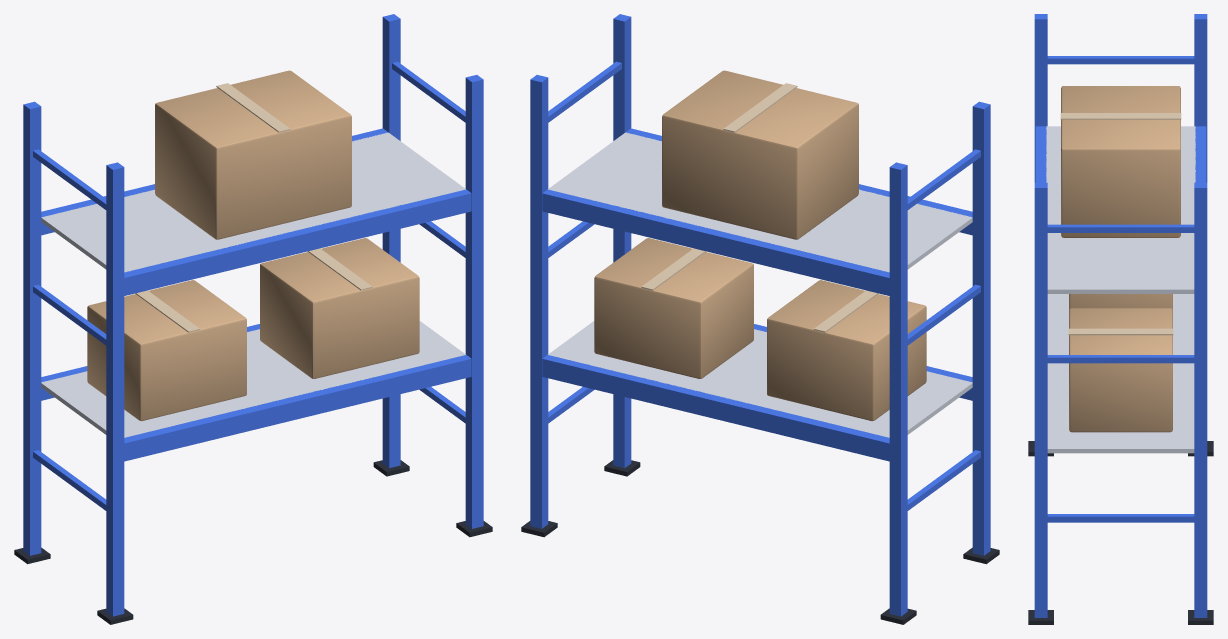
Rendered from rack.glb.
The picture shows the model from 3 angles, left to right: view 1: azimuth 30°, elevation 25°; view 2: azimuth 150°, elevation 25°; view 3: azimuth 270°, elevation 25°; orthographic projection. The views are drawn at different scales.
Visible parts, largest first — view 1: Box_U1, Box_L2, Box_L1, Rack_Deck_2, Rack_Deck_1, Rack_Col_-1.25_-0.5, Rack_BeamR_2, Rack_BeamR_1, Rack_Col_1.25_-0.5, Rack_Col_-1.25_0.5, Rack_Col_1.25_0.5, Rack_SideBrace_-1.25_1.8 (+7 smaller); view 2: Box_U1, Box_L2, Box_L1, Rack_Deck_2, Rack_Deck_1, Rack_Col_-1.25_0.5, Rack_BeamF_2, Rack_BeamF_1, Rack_Col_1.25_0.5, Rack_Col_-1.25_-0.5, Rack_Col_1.25_-0.5, Rack_SideBrace_-1.25_1.8 (+7 smaller); view 3: Box_U1, Box_L2, Rack_Deck_2, Rack_Deck_1, Rack_Col_1.25_0.5, Rack_Col_1.25_-0.5, Rack_Col_-1.25_0.5, Rack_Col_-1.25_-0.5, Box_L1, Rack_SideBrace_1.25_0.7, Rack_SideBrace_1.25_1.8, Rack_SideBrace_1.25_2.7 (+7 smaller).
Part boxes in pixels (x1,y1,x2,y2): Box_U1: [155, 70, 351, 239]; Box_L2: [260, 238, 419, 378]; Box_L1: [87, 280, 246, 421]; Rack_Deck_2: [41, 132, 465, 272]; Rack_Deck_1: [41, 321, 465, 437]; Rack_Col_-1.25_-0.5: [106, 162, 124, 616]; Rack_BeamR_2: [124, 189, 471, 295]; Rack_BeamR_1: [124, 355, 471, 461]; Rack_Col_1.25_-0.5: [465, 75, 483, 528]; Rack_Col_-1.25_0.5: [23, 101, 41, 555]; Rack_Col_1.25_0.5: [382, 14, 400, 468]; Rack_SideBrace_-1.25_1.8: [33, 284, 106, 345]; Box_U1: [662, 70, 858, 239]; Box_L2: [594, 238, 753, 378]; Box_L1: [767, 280, 926, 421]; Rack_Deck_2: [548, 132, 972, 272]; Rack_Deck_1: [548, 321, 972, 437]; Rack_Col_-1.25_0.5: [889, 162, 907, 616]; Rack_BeamF_2: [542, 189, 889, 295]; Rack_BeamF_1: [542, 355, 889, 461]; Rack_Col_1.25_0.5: [530, 75, 548, 528]; Rack_Col_-1.25_-0.5: [972, 101, 990, 555]; Rack_Col_1.25_-0.5: [613, 14, 631, 468]; Rack_SideBrace_-1.25_1.8: [907, 284, 980, 345]; Box_U1: [1061, 86, 1180, 237]; Box_L2: [1069, 308, 1172, 432]; Rack_Deck_2: [1046, 126, 1195, 293]; Rack_Deck_1: [1047, 294, 1194, 453]; Rack_Col_1.25_0.5: [1194, 182, 1207, 617]; Rack_Col_1.25_-0.5: [1034, 182, 1047, 617]; Rack_Col_-1.25_0.5: [1194, 14, 1207, 182]; Rack_Col_-1.25_-0.5: [1034, 14, 1047, 182]; Box_L1: [1069, 294, 1172, 309]; Rack_SideBrace_1.25_0.7: [1047, 514, 1194, 522]; Rack_SideBrace_1.25_1.8: [1047, 355, 1194, 363]; Rack_SideBrace_1.25_2.7: [1047, 224, 1194, 232].
Size of the model in its own units: 2.66 by 3 by 1.16.
